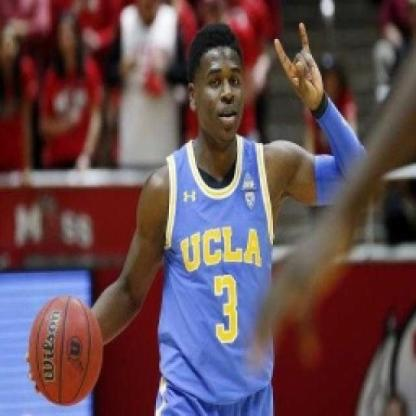basketball: (22, 290, 107, 407)
